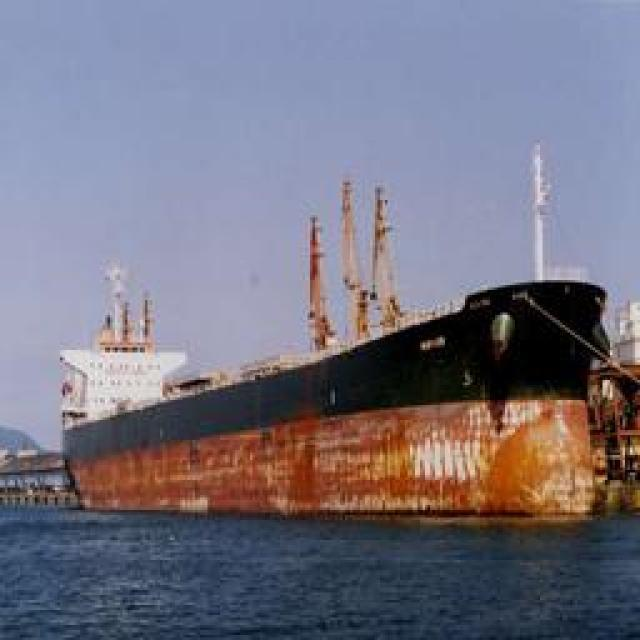ship2: (57, 141, 612, 527)
